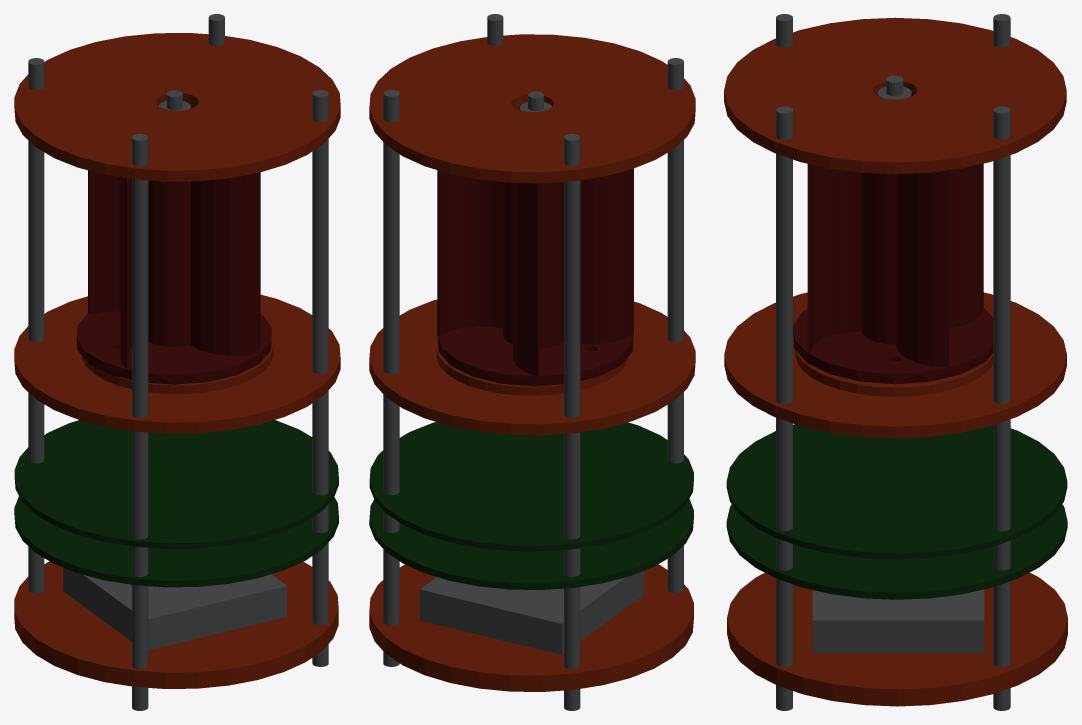
Rendered from cansat_gotowy.obj.
3 renders of one model, left to right at view 1: azimuth 30°, elevation 25°; view 2: azimuth 150°, elevation 25°; view 3: azimuth 270°, elevation 25°, orthographic. The views are drawn at different scales.
Parts seen in each view (by area): view 1: wirnik_klapa.001_Cylinder.001; view 2: wirnik_klapa.001_Cylinder.001; view 3: wirnik_klapa.001_Cylinder.001.
Part boxes in pixels (<box>): wirnik_klapa.001_Cylinder.001: <box>14,14,340,710</box>; wirnik_klapa.001_Cylinder.001: <box>369,14,695,710</box>; wirnik_klapa.001_Cylinder.001: <box>724,14,1067,710</box>.
Size of the model in its own units: 0.8084 by 1.55 by 0.8112.
